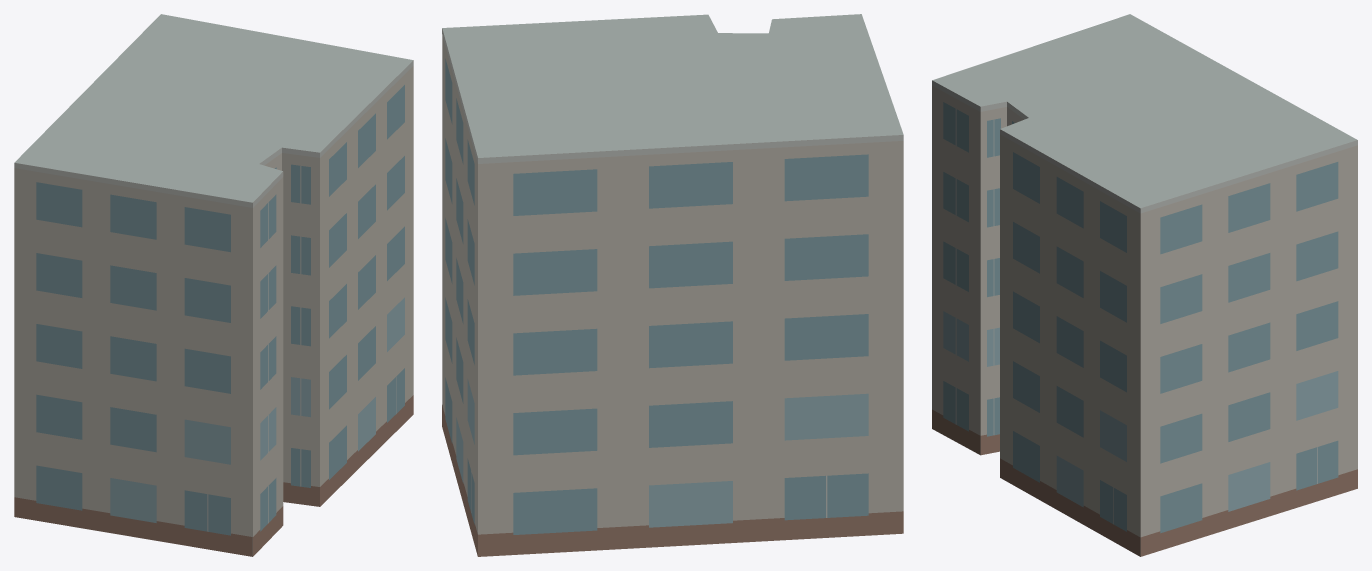
Rendered from survey-upis-33013373.glb.
3 renders of one model, left to right at view 1: azimuth 30°, elevation 25°; view 2: azimuth 150°, elevation 25°; view 3: azimuth 270°, elevation 25°, orthographic. The views are drawn at different scales.
Visible parts, largest first — view 1: survey-upis-33013373.tmp; view 2: survey-upis-33013373.tmp; view 3: survey-upis-33013373.tmp.
Part boxes in pixels (box(x1,y1,x2,y2)): survey-upis-33013373.tmp: box(14, 14, 413, 556); survey-upis-33013373.tmp: box(442, 14, 903, 556); survey-upis-33013373.tmp: box(932, 14, 1357, 556).
Size of the model in its own units: 19.44 by 16.25 by 18.
